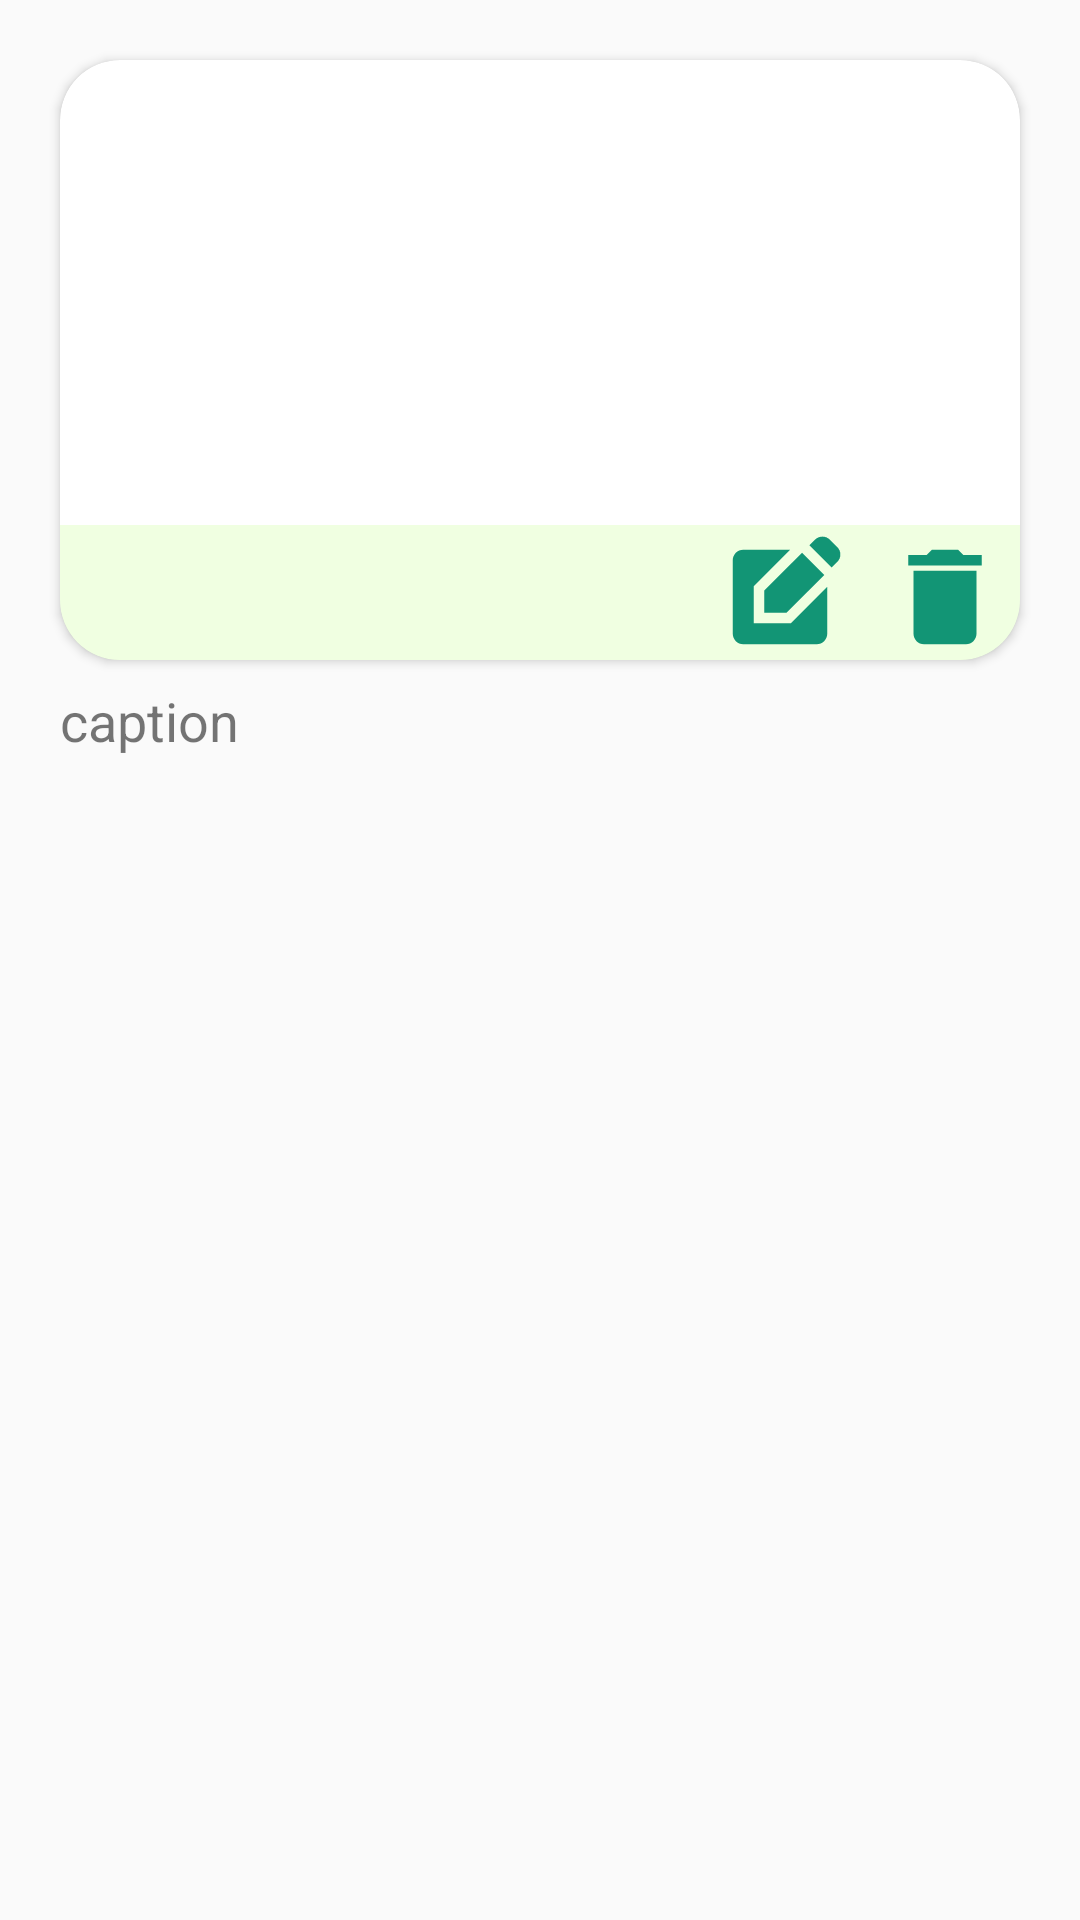

Where to tap for icons on this 1080px x 1920px app screen, as (x,y):
edit: (786,590)
